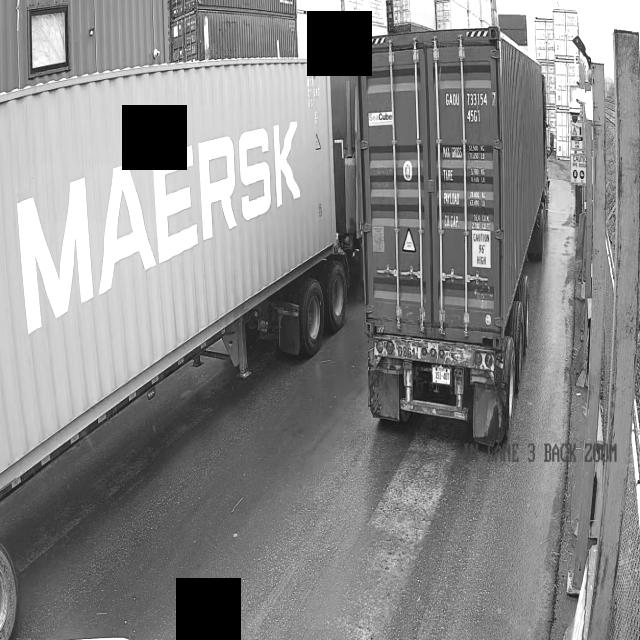container_company_logo: (8, 99, 309, 334)
container_number: (444, 84, 494, 129)
license_plate: (430, 361, 451, 387)
truck_with_container: (0, 57, 360, 498), (357, 26, 548, 444)
